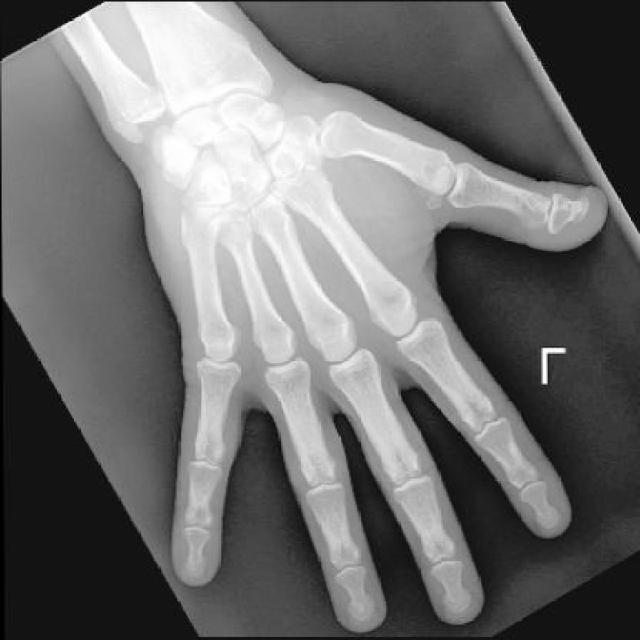Fracture: (276, 153, 301, 176)
